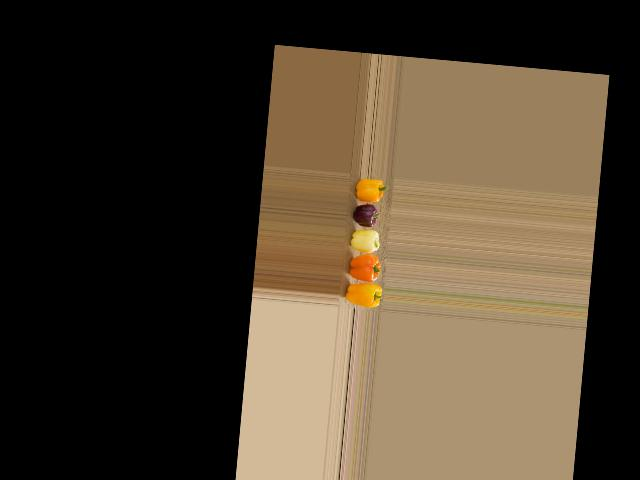bell_pepper: (349, 174, 390, 201)
